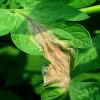Tomato leaf late blight: (2, 1, 94, 99)
